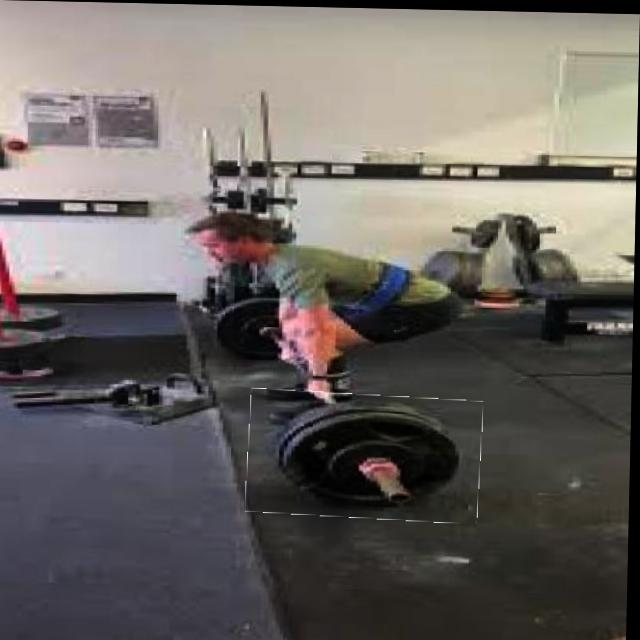barbell: (249, 389, 485, 521)
